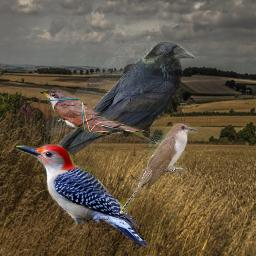Crow: (46, 41, 197, 163)
Cuckoo: (120, 123, 198, 214), (37, 86, 149, 140)
Woodpecker: (16, 144, 149, 247)
